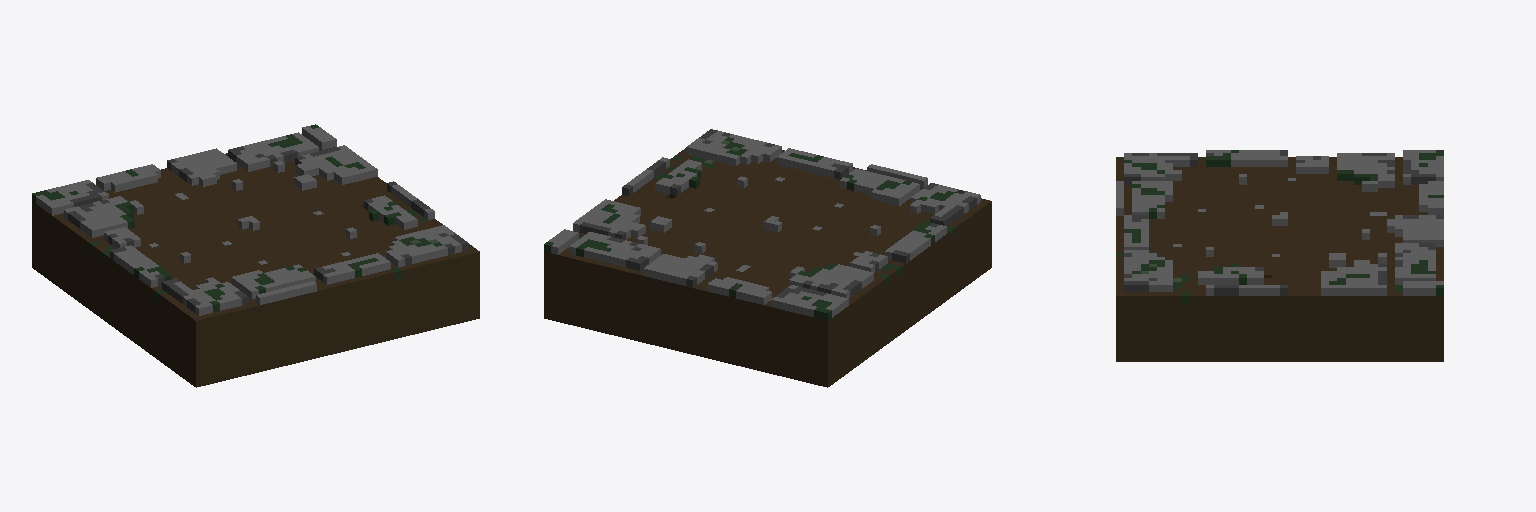
3 views of the same model, side by side, from view 1: azimuth 30°, elevation 25°; view 2: azimuth 150°, elevation 25°; view 3: azimuth 270°, elevation 25° (orthographic).
Parts seen in each view (by area): view 1: object 1; view 2: object 1; view 3: object 1.
Part boxes in pixels (x1,y1,x2,y2): object 1: (32, 124, 479, 387); object 1: (544, 129, 991, 387); object 1: (1116, 150, 1443, 361).
Size of the model in its own units: 4 by 1 by 4.
Materials: 1 (1 with a texture image).